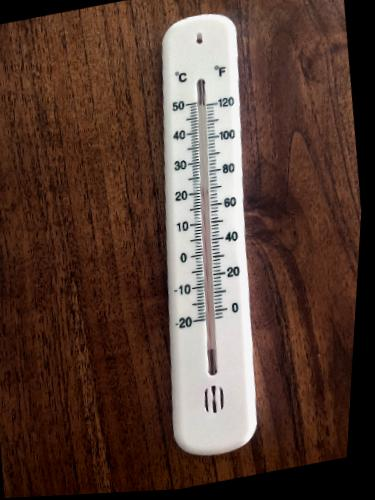thermo: (162, 10, 258, 448)
